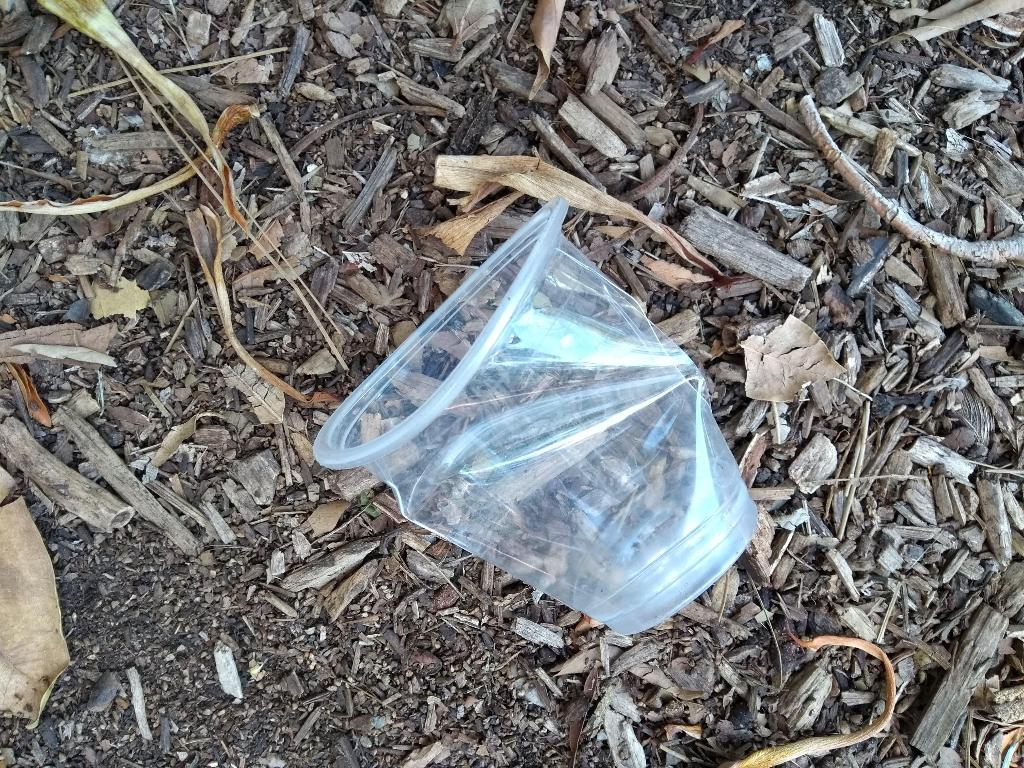garbage: (305, 205, 772, 633), (314, 198, 756, 632)
